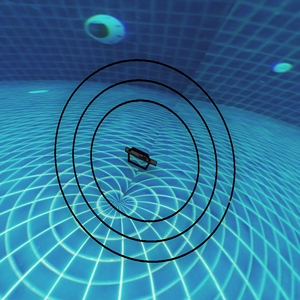circle: (50, 47, 252, 289)
submarine: (124, 146, 152, 167)
